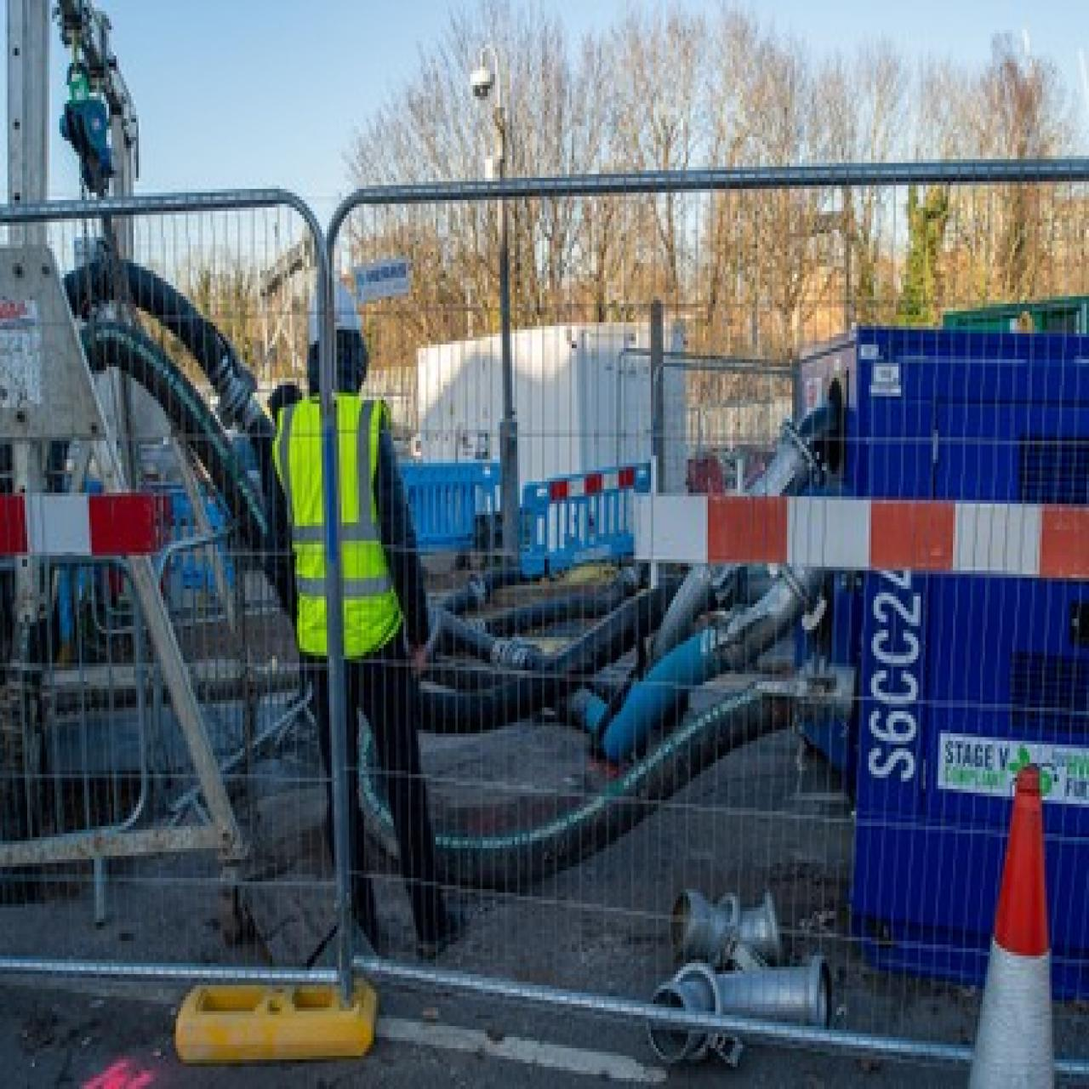Person: (247, 272, 479, 938)
Safety_Vest: (274, 405, 416, 658)
